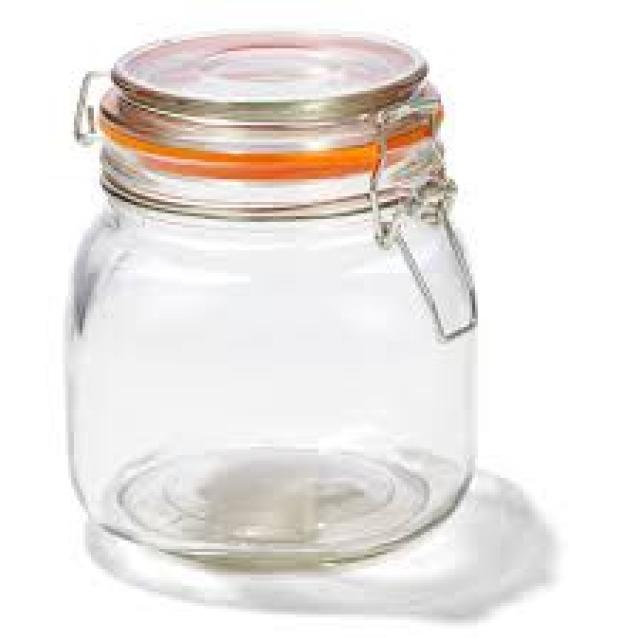glass: (66, 34, 473, 566)
metal: (378, 171, 475, 333), (65, 66, 94, 137)
